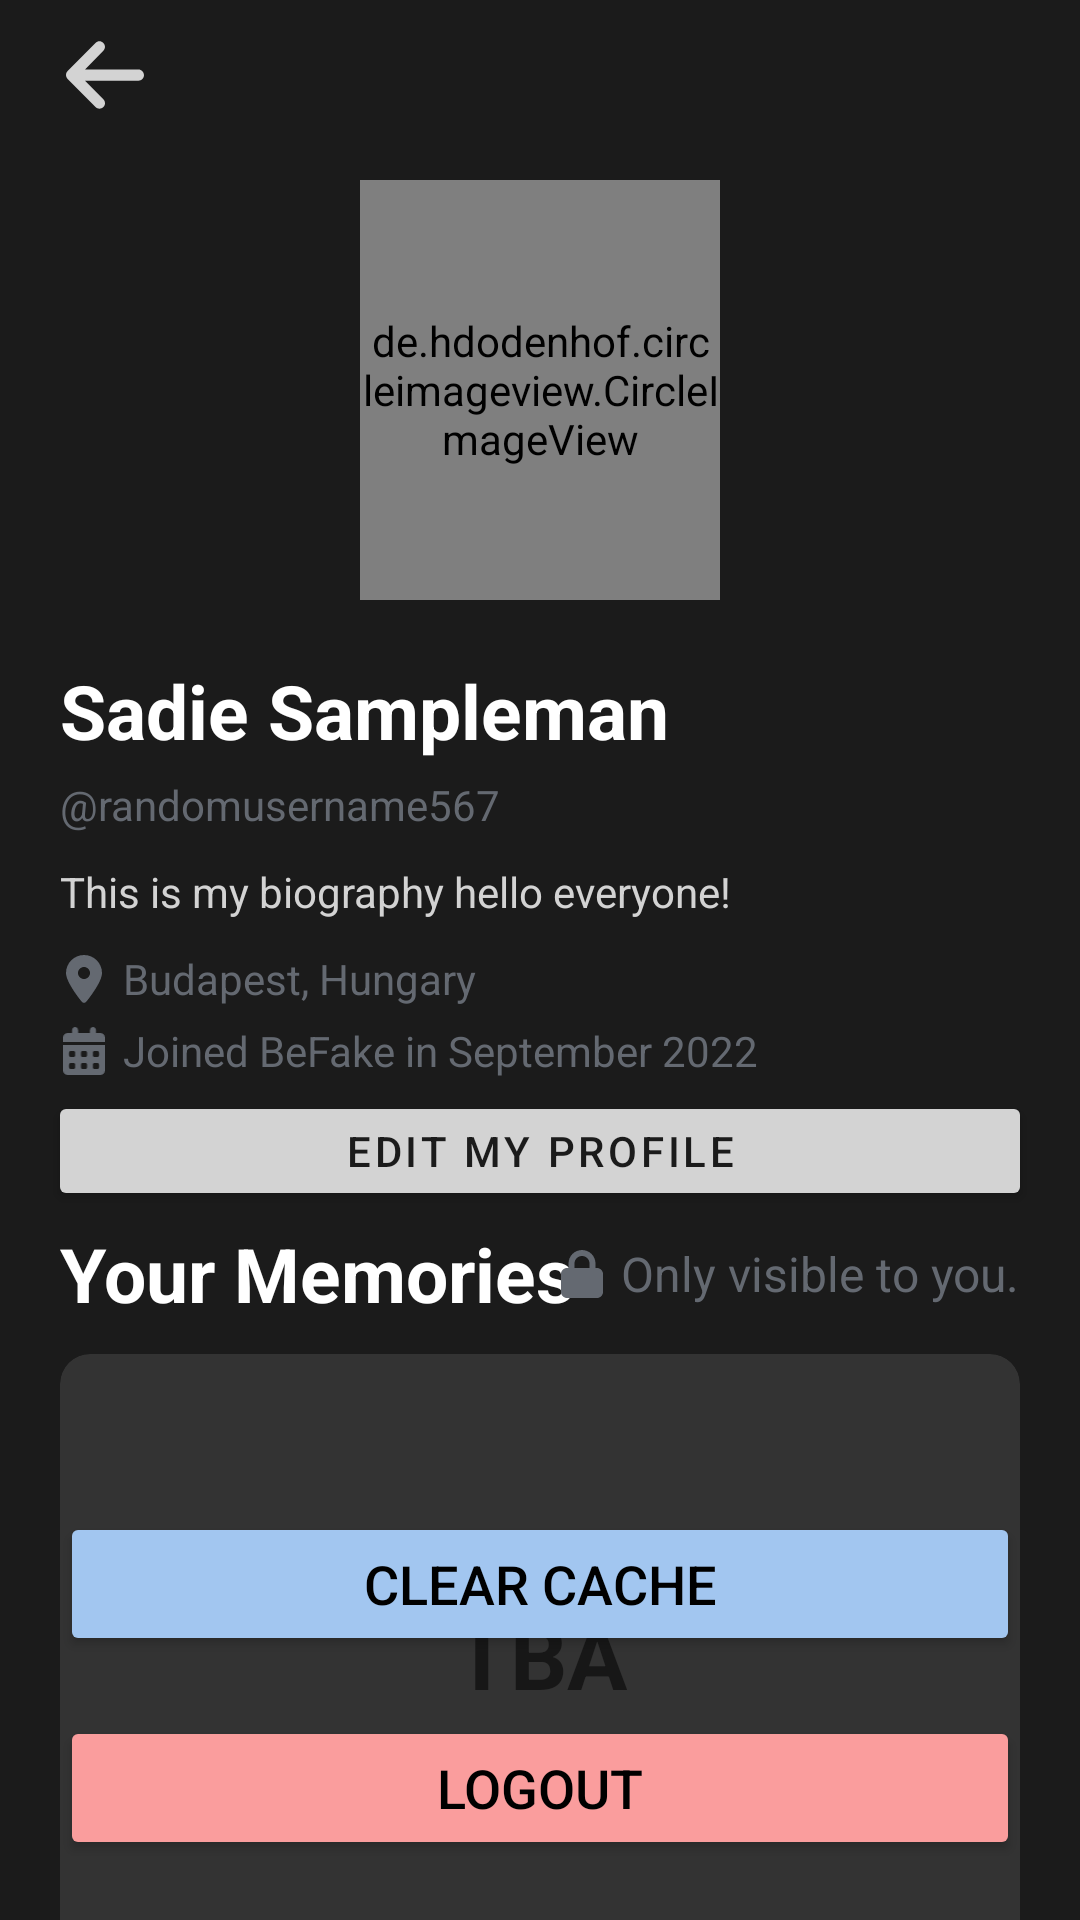

Named icons in this screenshot (1080 x 1920) and their centers, [x,y]:
calendar icon: [84,1051]
left arrow button: [105,75]
location icon: [84,979]
